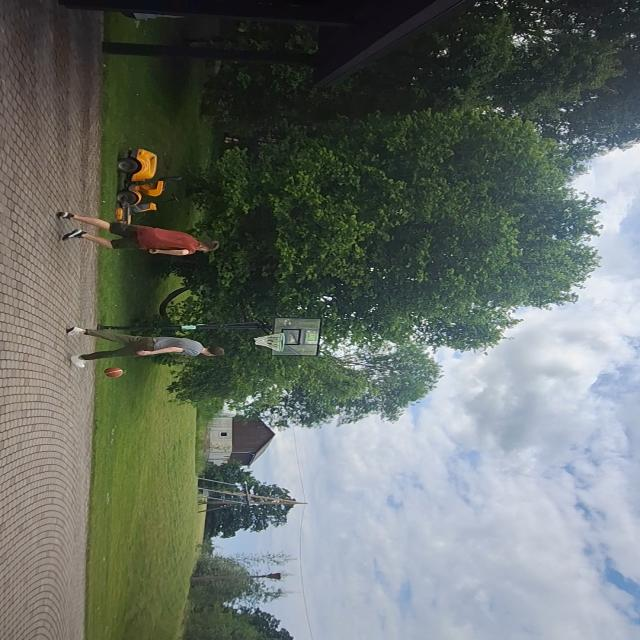ball: (102, 367, 125, 378)
hoop: (252, 332, 288, 354)
player: (54, 209, 222, 259), (63, 326, 226, 363)
